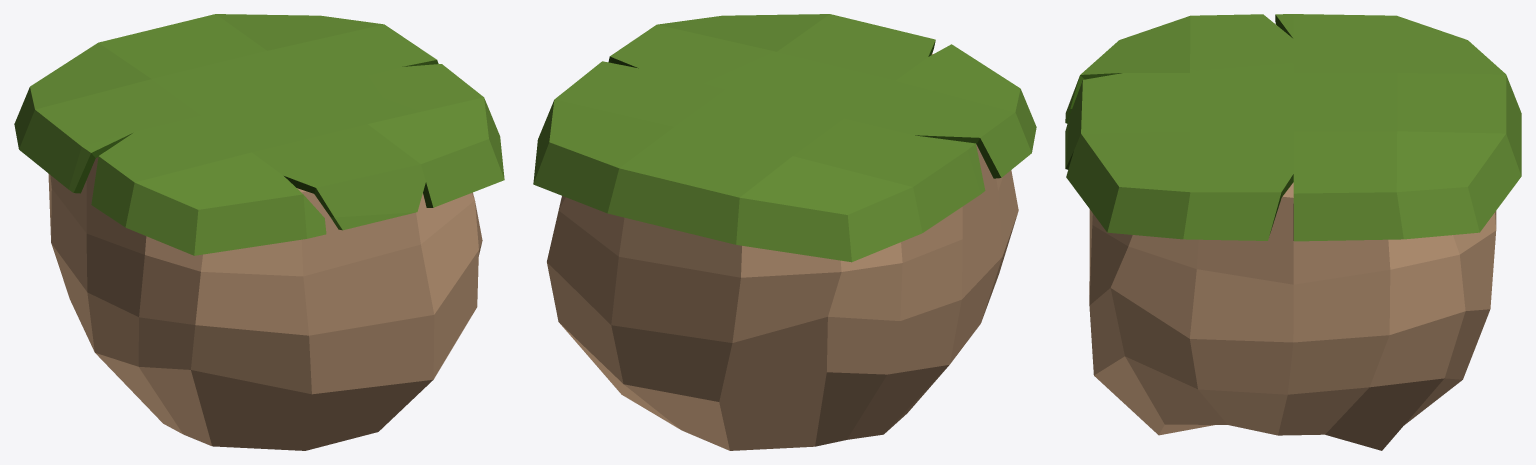
Rendered from sand_top2.glb.
3 renders of one model, left to right at view 1: azimuth 30°, elevation 25°; view 2: azimuth 150°, elevation 25°; view 3: azimuth 270°, elevation 25°, orthographic. The views are drawn at different scales.
Parts seen in each view (by area): view 1: GrassTop2; view 2: GrassTop2; view 3: GrassTop2.
Boxes of the visible parts, <box> form: GrassTop2: <box>14,14,504,450</box>; GrassTop2: <box>533,14,1036,450</box>; GrassTop2: <box>1065,14,1521,450</box>.
Size of the model in its own units: 2.21 by 1.68 by 2.21.
Materials: 1 (1 with a texture image).
